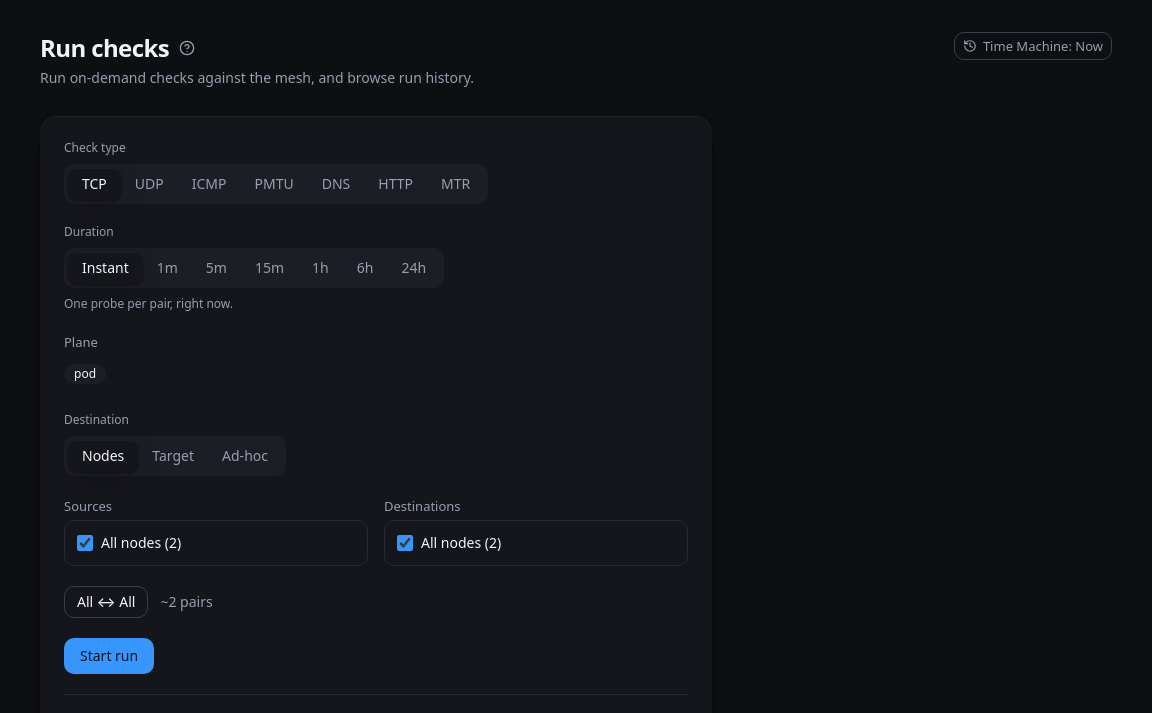
Test: DiagnosticsPage destination kinds › blocks submit while the external destination is incomplete, rather than collecting a 400
The width and height of the screenshot is (1152, 713).
Click the radio button labelled "Ad-hoc" at (245, 456), box 208,440 -> 282,472
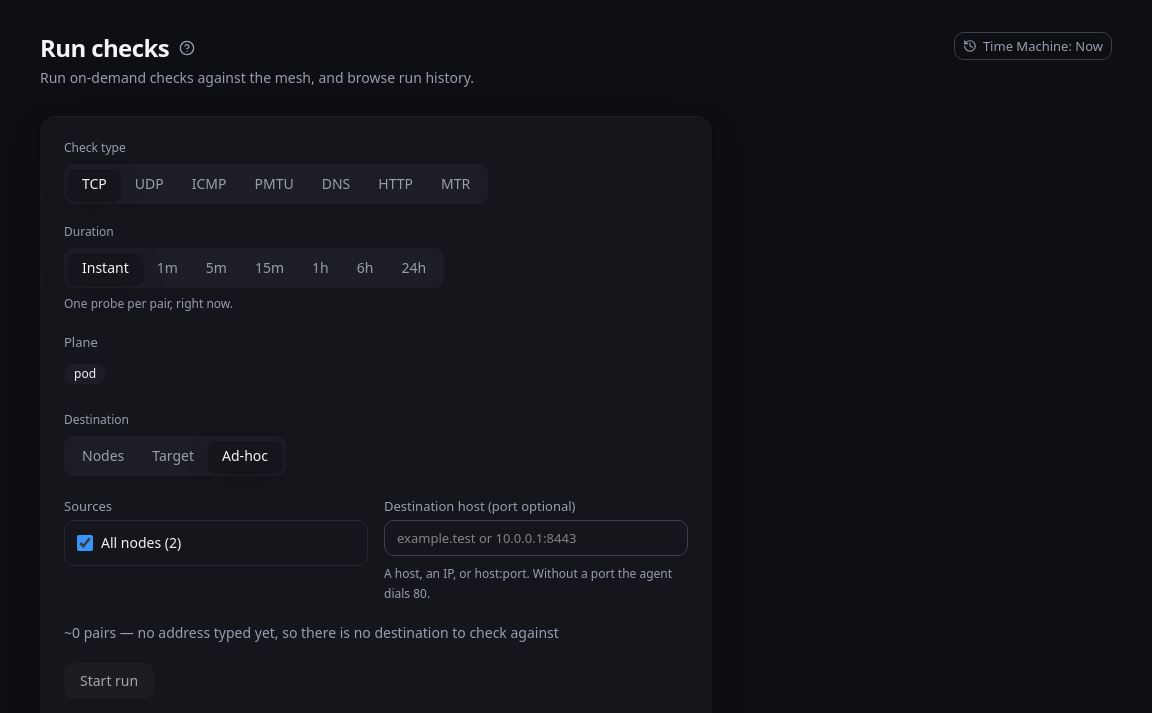
Check: the button "Start run" is disabled, box 64,663 -> 154,699
Type "10.0.0.9" into the field labelled "Destination host (port optional)" at (536, 538), box 384,520 -> 688,556
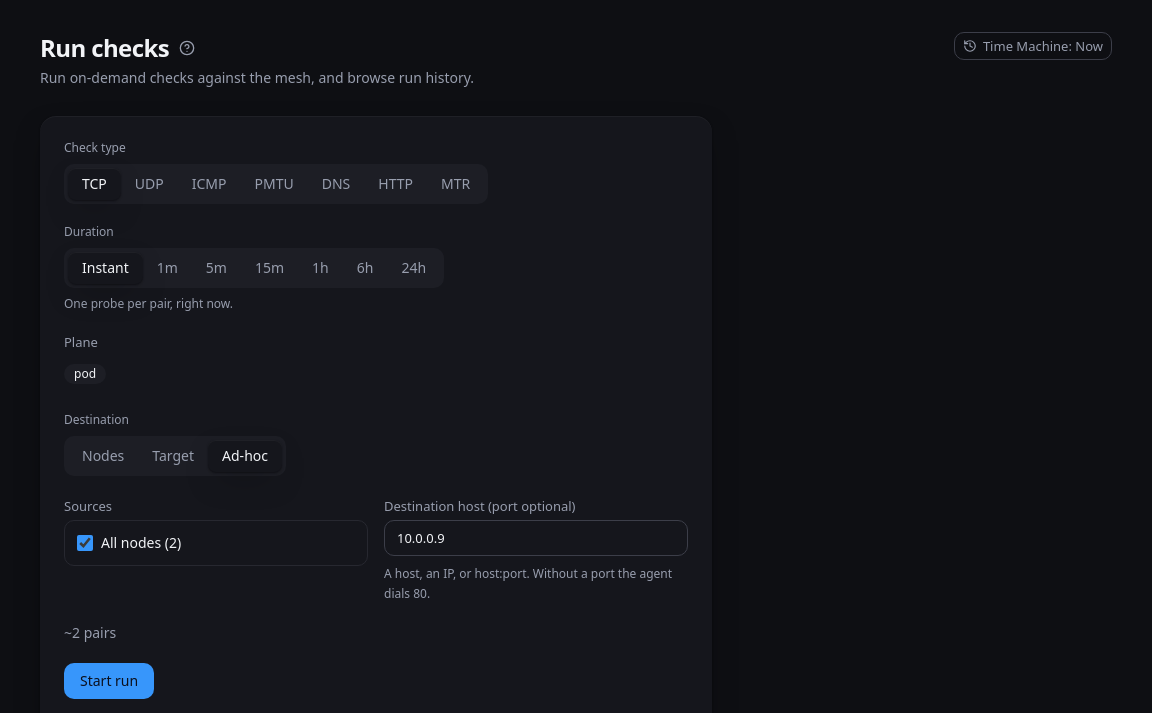
Check: the button "Start run" is enabled, box 64,663 -> 154,699
